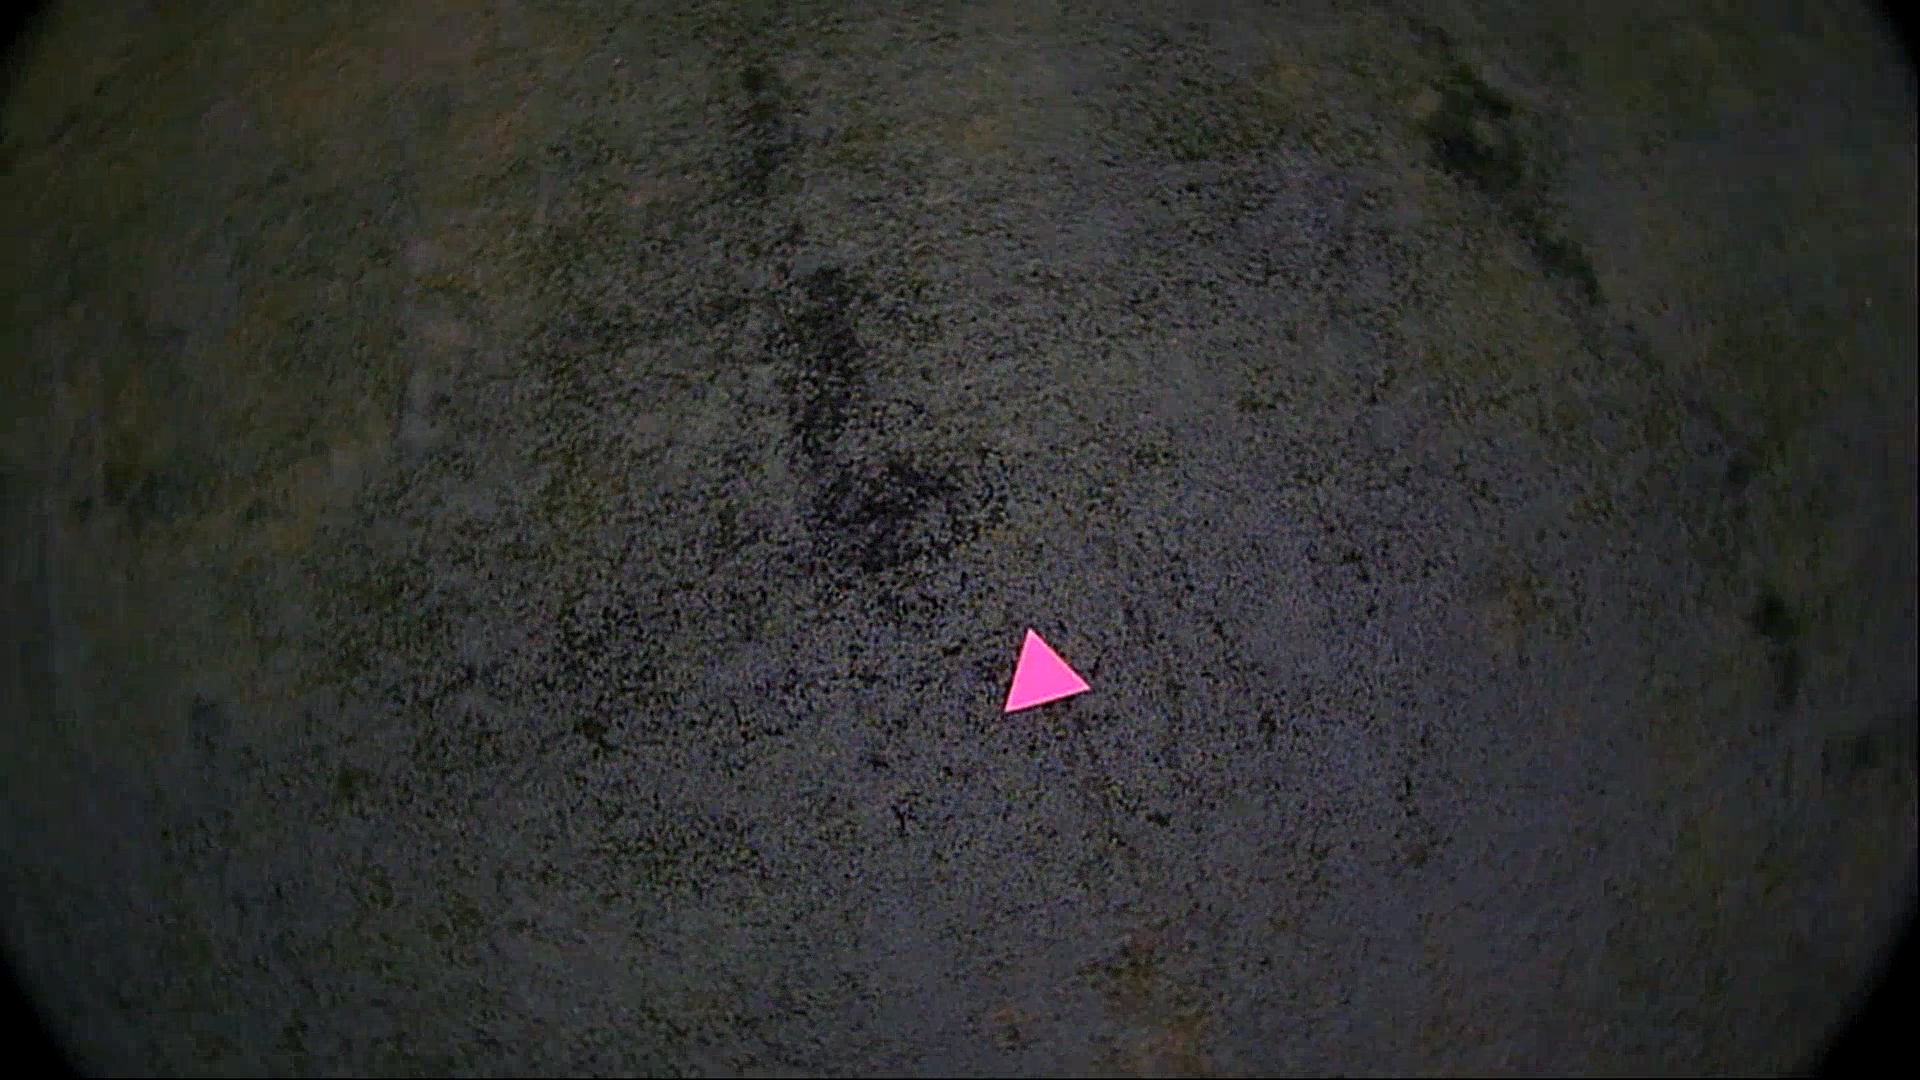triangle: (997, 618, 1095, 724)
